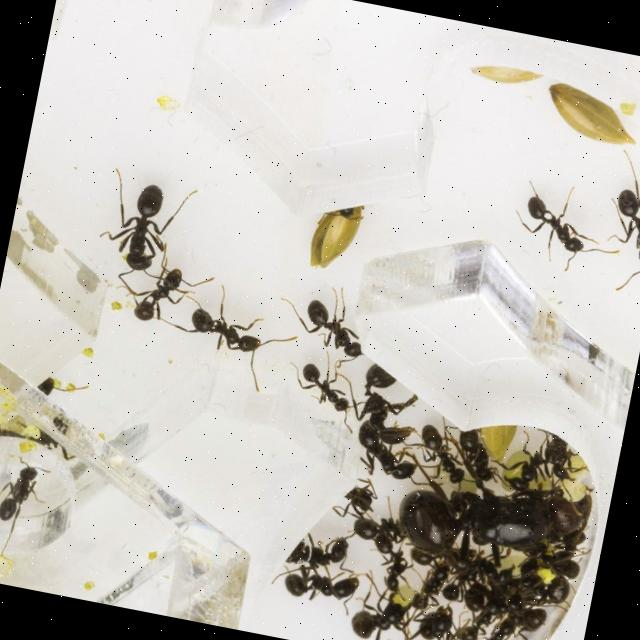Minor: (160, 279, 304, 399), (92, 167, 198, 302), (508, 178, 628, 280), (283, 284, 383, 371), (115, 250, 214, 336), (585, 148, 640, 299), (284, 356, 368, 434), (350, 421, 430, 490), (0, 457, 51, 563)
Queen: (396, 464, 593, 588)
